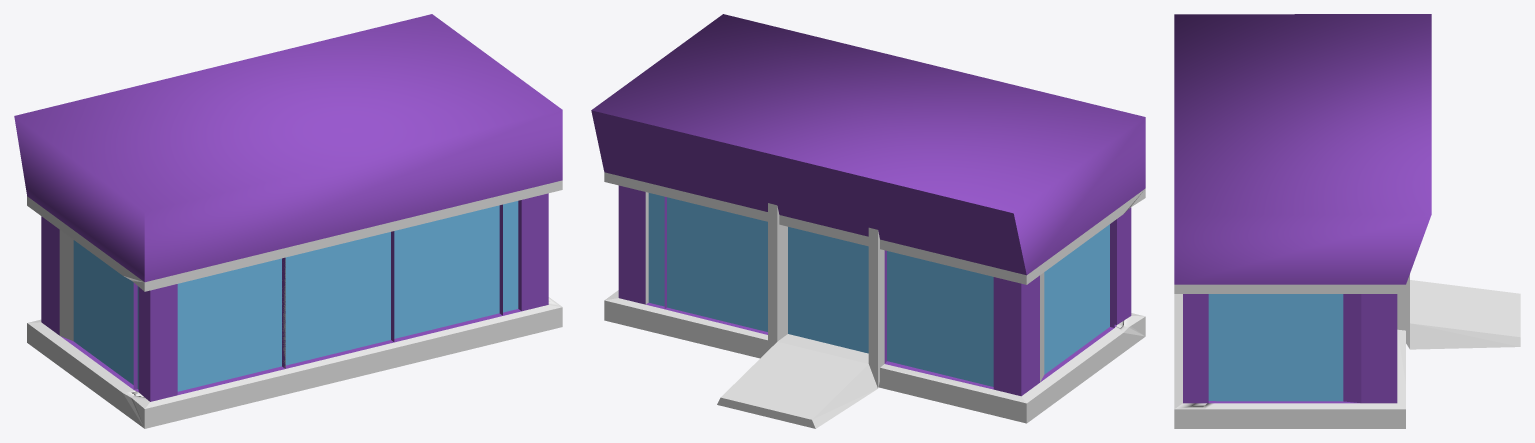
The model's file is Shop4x2x2Purple.fbx.
3 renders of one model, left to right at view 1: azimuth 30°, elevation 25°; view 2: azimuth 150°, elevation 25°; view 3: azimuth 270°, elevation 25°, orthographic. The views are drawn at different scales.
Parts seen in each view (by area): view 1: Shop.001; view 2: Shop.001; view 3: Shop.001.
Part boxes in pixels (left/top/right/bottom): Shop.001: left=14, top=14, right=562, bottom=428; Shop.001: left=591, top=14, right=1145, bottom=428; Shop.001: left=1174, top=14, right=1520, bottom=428.
Bounding box in the file's own units: 3.99 × 1.98 × 2.91.
Materials: 1 (1 with a texture image).
